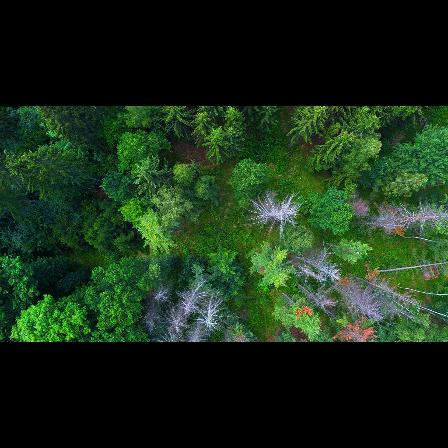Dead: (354, 276, 433, 310), (243, 190, 304, 231), (293, 250, 345, 277), (336, 287, 381, 318), (298, 283, 341, 314), (392, 209, 447, 224), (352, 217, 400, 233), (202, 301, 222, 331), (181, 286, 202, 314), (167, 308, 187, 331), (295, 266, 326, 280), (185, 322, 207, 341), (161, 324, 184, 342), (155, 287, 173, 305)
